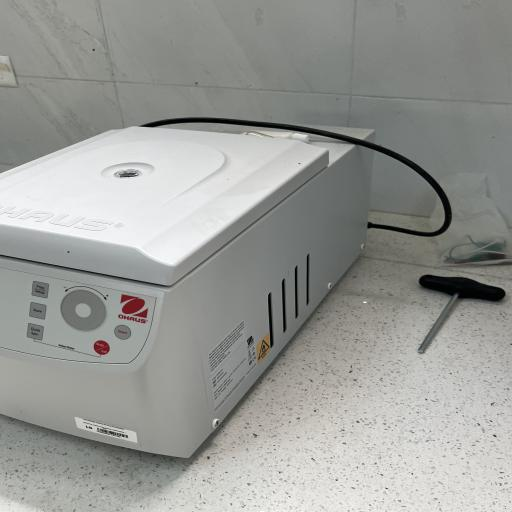Centrifuga_Ohaus_Frontier: (2, 106, 428, 470)
